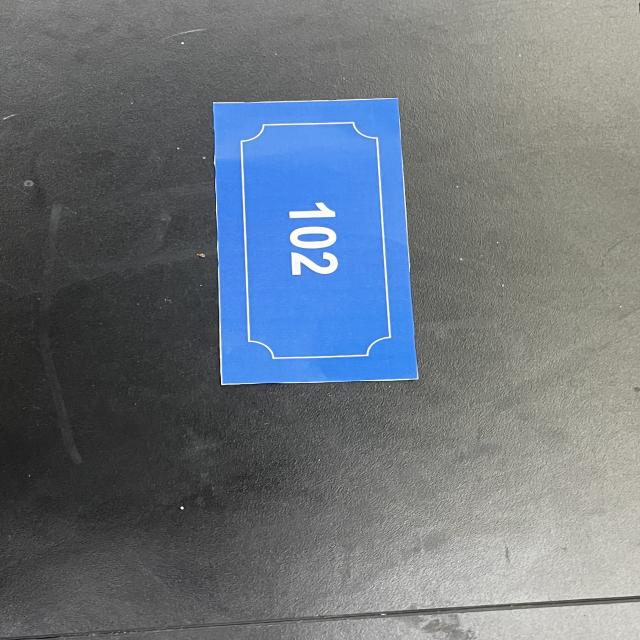Card: (176, 74, 447, 413)
